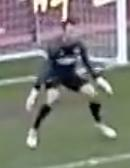goalkeeper: (16, 6, 130, 166)
